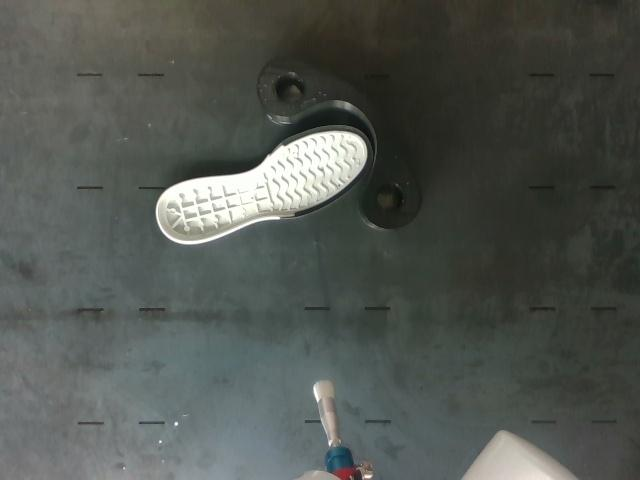shoes: (158, 126, 373, 242)
